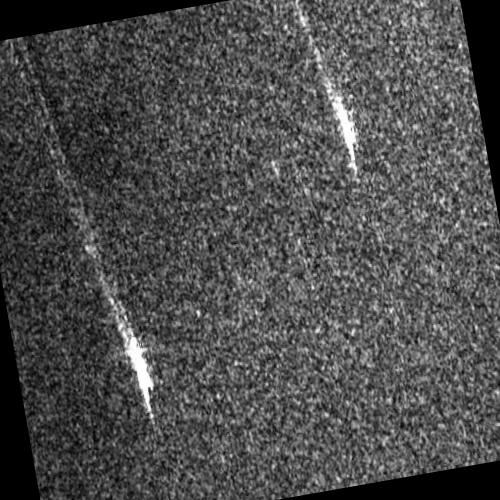ship: (126, 332, 153, 405), (333, 94, 358, 162)
